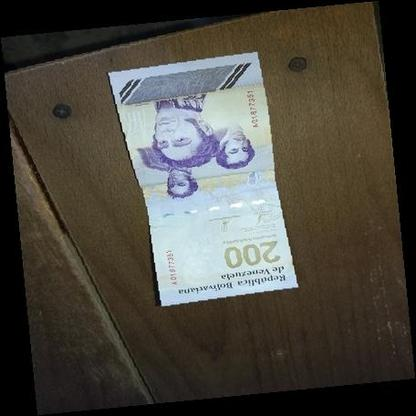two_hundred-front-vef: (108, 50, 298, 306)
